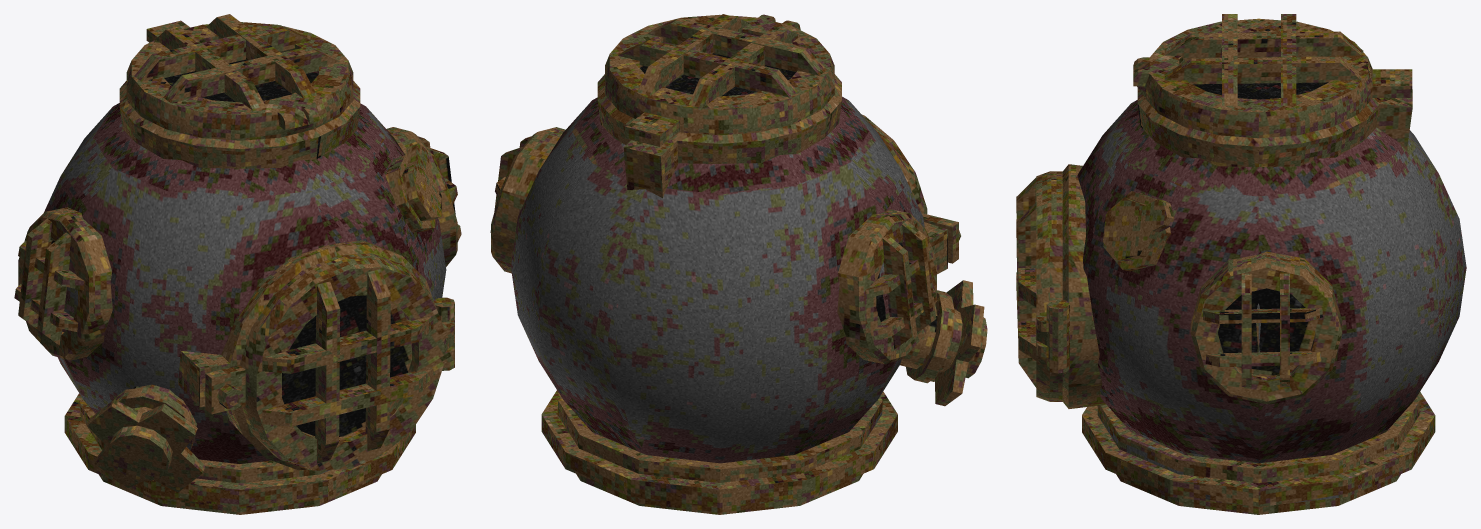
File: SM_DiversHelmet.fbx
The picture shows the model from 3 angles, left to right: view 1: azimuth 30°, elevation 25°; view 2: azimuth 150°, elevation 25°; view 3: azimuth 270°, elevation 25°; orthographic projection.
Parts seen in each view (by area): view 1: HelmetDiver; view 2: HelmetDiver; view 3: HelmetDiver.
Boxes of the visible parts, <box> form: HelmetDiver: <box>14,14,461,514</box>; HelmetDiver: <box>490,14,987,514</box>; HelmetDiver: <box>1016,14,1466,514</box>.
Bounding box in the file's own units: 46.34 × 42.37 × 43.28.
Materials: 1 (1 with a texture image).
